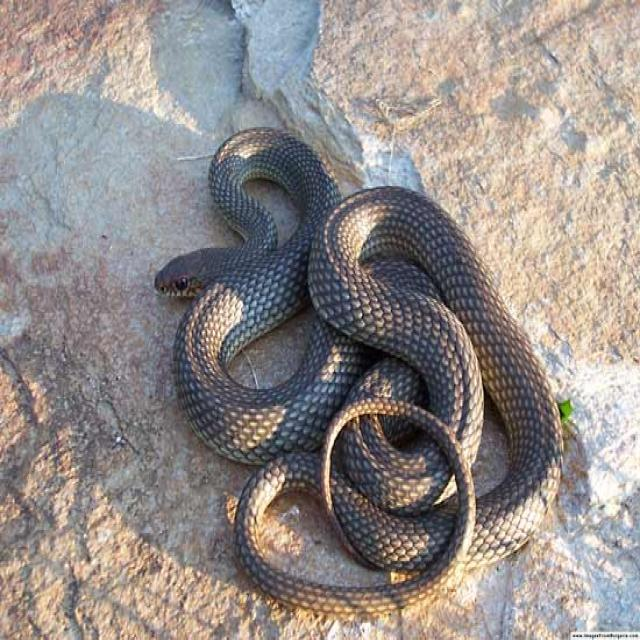Snake: (150, 122, 566, 626)
